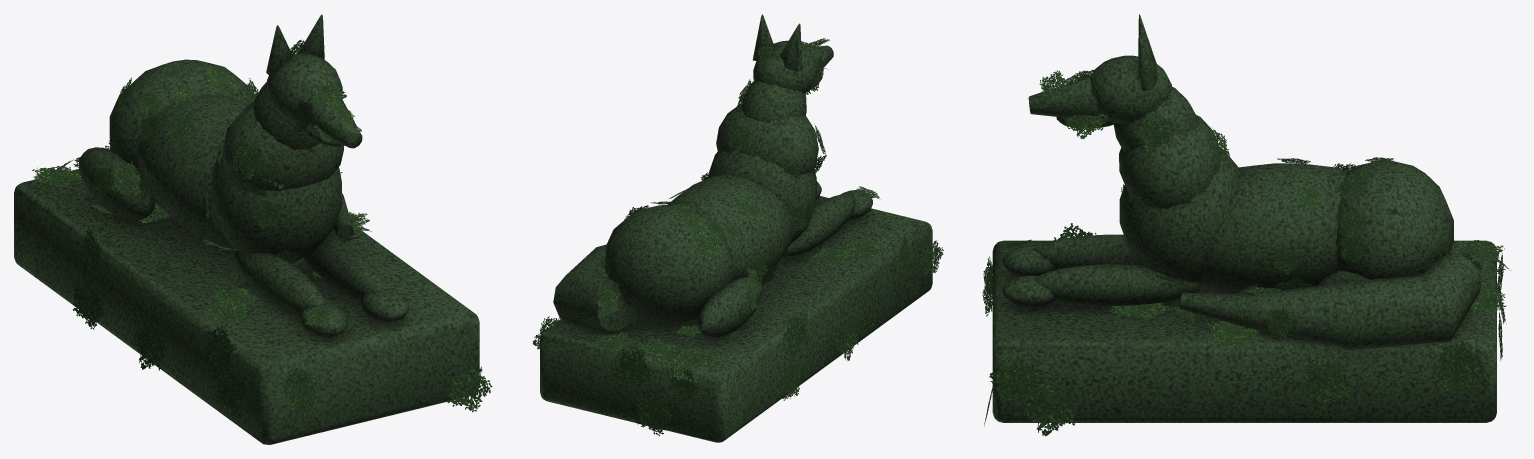
Rendered from HedgeWolf.fbx.
The picture shows the model from 3 angles, left to right: view 1: azimuth 30°, elevation 25°; view 2: azimuth 150°, elevation 25°; view 3: azimuth 270°, elevation 25°; orthographic projection. The views are drawn at different scales.
Visible parts, largest first — view 1: HedgeWolf_Main, HedgeWolf_Leaves; view 2: HedgeWolf_Main, HedgeWolf_Leaves; view 3: HedgeWolf_Main, HedgeWolf_Leaves.
Part boxes in pixels (<box>): HedgeWolf_Main: <box>14,14,479,444</box>; HedgeWolf_Leaves: <box>32,39,492,424</box>; HedgeWolf_Main: <box>540,14,932,442</box>; HedgeWolf_Leaves: <box>532,38,943,436</box>; HedgeWolf_Main: <box>992,14,1496,422</box>; HedgeWolf_Leaves: <box>982,53,1510,436</box>.
Size of the model in its own units: 407 by 577 by 776.
